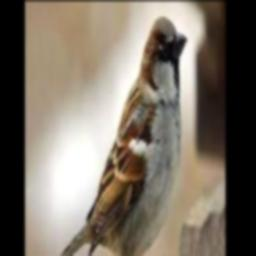Sparrow: (53, 17, 187, 256)
